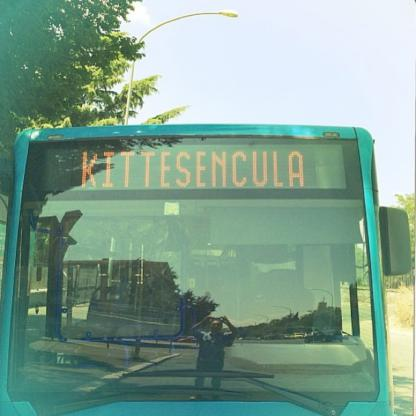Bus: (0, 121, 413, 415)
